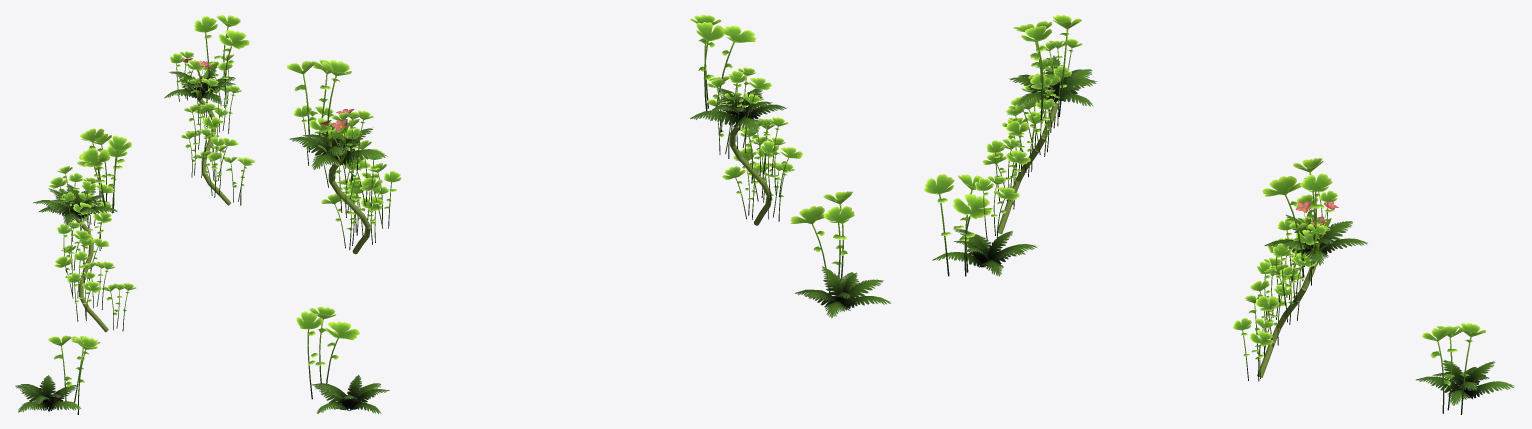
File: Woodland_Well_Greenery.glb
3 views of the same model, side by side, from view 1: azimuth 30°, elevation 25°; view 2: azimuth 150°, elevation 25°; view 3: azimuth 270°, elevation 25° (orthographic). The views are drawn at different scales.
Visible parts, largest first — view 1: Patch_00, Patch_01, Patch_03, Patch_04, Patch_02; view 2: Patch_00, Patch_01, Patch_03, Patch_04; view 3: Patch_01, Patch_00, Patch_03, Patch_04.
Part boxes in pixels (bbox=[...]): Patch_00: bbox=[33, 128, 136, 332]; Patch_01: bbox=[164, 15, 255, 205]; Patch_03: bbox=[15, 335, 100, 414]; Patch_04: bbox=[38, 133, 127, 221]; Patch_02: bbox=[181, 58, 211, 100]; Patch_00: bbox=[690, 14, 803, 225]; Patch_01: bbox=[286, 60, 401, 254]; Patch_03: bbox=[790, 191, 891, 318]; Patch_04: bbox=[296, 306, 389, 413]; Patch_01: bbox=[1232, 158, 1367, 381]; Patch_00: bbox=[975, 15, 1097, 239]; Patch_03: bbox=[924, 174, 1037, 276]; Patch_04: bbox=[1416, 323, 1514, 414].
Size of the model in its own units: 2.49 by 1.57 by 2.81.
5 materials, 4 textured.
